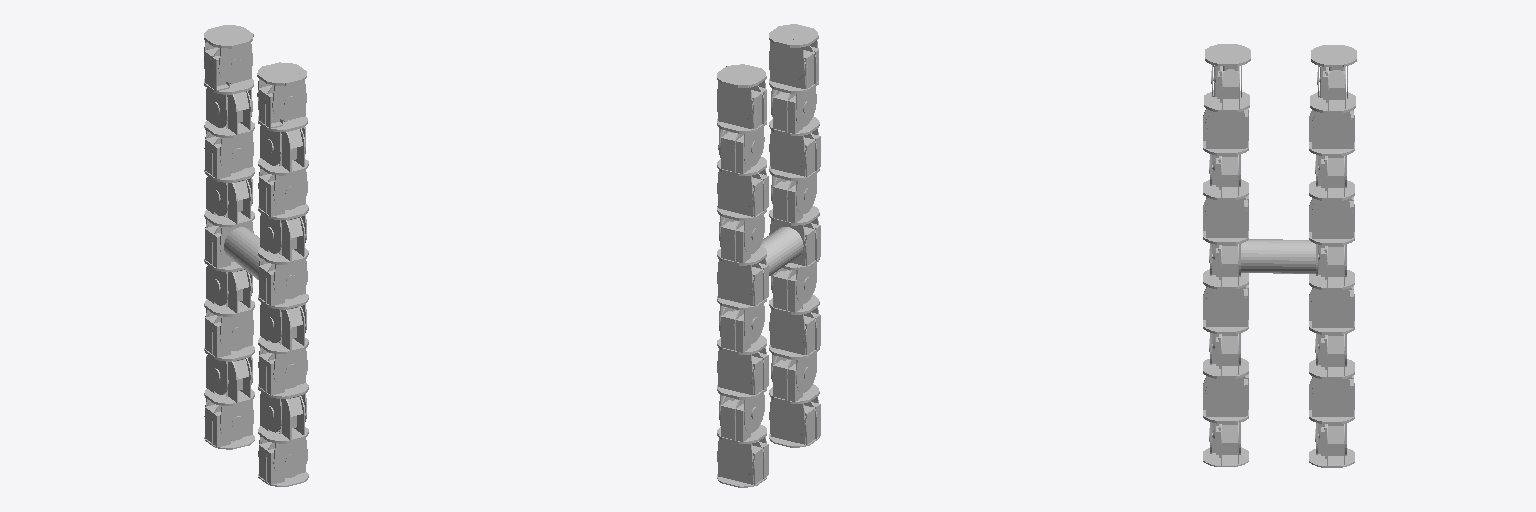
The model's file is myRobot.obj.
The picture shows the model from 3 angles: view 1: azimuth 30°, elevation 25°; view 2: azimuth 150°, elevation 25°; view 3: azimuth 270°, elevation 25°; orthographic projection.
Visible parts, largest first — view 1: snake_body1_respondable_right_snake_body3_respondable.002, snake_body1_respondable_left_snake_body3_respondable.001, snake_body7_respondable_left_snake_body7_respondable, snake_body9_respondable_left_snake_body9_respondable, snake_body5_respondable_right_snake_body5_respondable.001, snake_body7_respondable_right_snake_body7_respondable.001, snake_body3_respondable_right_snake_body3_respondable.003, snake_body9_respondable_right_snake_body9_respondable.001, snake_body3_respondable_left_snake_body3_respondable, snake_body2_right_snake_body4.002, snake_body2_left_snake_body4.001, snake_body8_respondable_left_snake_body8_respondable (+15 smaller); view 2: snake_body5_respondable_left_snake_body5_respondable, snake_body7_respondable_left_snake_body7_respondable, snake_body7_respondable_right_snake_body7_respondable.001, snake_body9_respondable_left_snake_body9_respondable, snake_body9_respondable_right_snake_body9_respondable.001, snake_body3_respondable_right_snake_body3_respondable.003, snake_body3_respondable_left_snake_body3_respondable, snake_body1_respondable_right_snake_body3_respondable.002, snake_body1_respondable_left_snake_body3_respondable.001, snake_body2_right_snake_body4.002, snake_body2_left_snake_body4.001, snake_body4_respondable_right_snake_body4_respondable.002 (+9 smaller); view 3: snake_body2_left_snake_body4.001, snake_body2_right_snake_body4.002, Cylinder, snake_body4_respondable_left_snake_body4_respondable, snake_body8_respondable_left_snake_body8_respondable, snake_body8_respondable_right_snake_body8_respondable.001, snake_body4_respondable_right_snake_body4_respondable.002, snake_body6_respondable_right_snake_body6_respondable.001, snake_body6_respondable_left_snake_body6_respondable, snake_body10_respondable_left_snake_body10_respondable, snake_body10_respondable_right_snake_body10_respondable.002, snake_body1_respondable_right_snake_body3_respondable.002 (+8 smaller).
Boxes of the visible parts, box(x1,y1,x2,y2) form: snake_body1_respondable_right_snake_body3_respondable.002: box(257, 62, 306, 120); snake_body1_respondable_left_snake_body3_respondable.001: box(204, 25, 253, 82); snake_body7_respondable_left_snake_body7_respondable: box(205, 267, 254, 350); snake_body9_respondable_left_snake_body9_respondable: box(205, 356, 254, 440); snake_body5_respondable_right_snake_body5_respondable.001: box(258, 215, 307, 298); snake_body7_respondable_right_snake_body7_respondable.001: box(258, 305, 307, 388); snake_body3_respondable_right_snake_body3_respondable.003: box(258, 126, 307, 209); snake_body9_respondable_right_snake_body9_respondable.001: box(258, 394, 307, 477); snake_body3_respondable_left_snake_body3_respondable: box(205, 88, 254, 172); snake_body2_right_snake_body4.002: box(258, 82, 307, 165); snake_body2_left_snake_body4.001: box(204, 45, 253, 127); snake_body8_respondable_left_snake_body8_respondable: box(205, 312, 254, 394); snake_body5_respondable_left_snake_body5_respondable: box(717, 218, 766, 299); snake_body7_respondable_left_snake_body7_respondable: box(717, 307, 766, 389); snake_body7_respondable_right_snake_body7_respondable.001: box(769, 268, 818, 349); snake_body9_respondable_left_snake_body9_respondable: box(717, 396, 766, 478); snake_body9_respondable_right_snake_body9_respondable.001: box(769, 356, 818, 438); snake_body3_respondable_right_snake_body3_respondable.003: box(769, 90, 818, 170); snake_body3_respondable_left_snake_body3_respondable: box(717, 130, 766, 210); snake_body1_respondable_right_snake_body3_respondable.002: box(769, 24, 818, 82); snake_body1_respondable_left_snake_body3_respondable.001: box(717, 64, 766, 122); snake_body2_right_snake_body4.002: box(769, 46, 818, 126); snake_body2_left_snake_body4.001: box(717, 86, 766, 166); snake_body4_respondable_right_snake_body4_respondable.002: box(769, 133, 820, 213); snake_body2_left_snake_body4.001: box(1310, 66, 1355, 148); snake_body2_right_snake_body4.002: box(1204, 65, 1249, 147); Cylinder: box(1241, 239, 1318, 273); snake_body4_respondable_left_snake_body4_respondable: box(1309, 155, 1354, 236); snake_body8_respondable_left_snake_body8_respondable: box(1309, 334, 1354, 414); snake_body8_respondable_right_snake_body8_respondable.001: box(1203, 333, 1248, 414); snake_body4_respondable_right_snake_body4_respondable.002: box(1203, 155, 1248, 235); snake_body6_respondable_right_snake_body6_respondable.001: box(1203, 244, 1248, 324); snake_body6_respondable_left_snake_body6_respondable: box(1309, 245, 1354, 325); snake_body10_respondable_left_snake_body10_respondable: box(1309, 423, 1354, 467); snake_body10_respondable_right_snake_body10_respondable.002: box(1203, 423, 1248, 466); snake_body1_respondable_right_snake_body3_respondable.002: box(1205, 44, 1250, 97).
Size of the model in its own units: 0.0733 by 0.6838 by 0.2365.